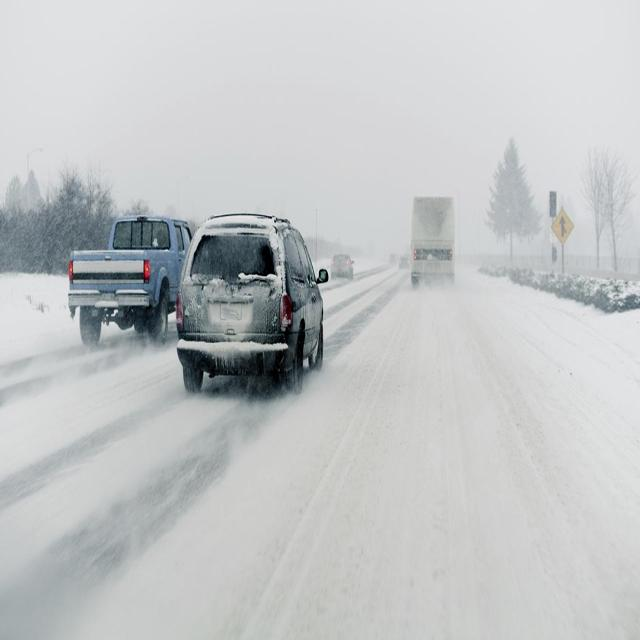Car: (172, 209, 331, 396), (329, 250, 356, 285)
Truck: (66, 211, 202, 352), (408, 192, 457, 294)
